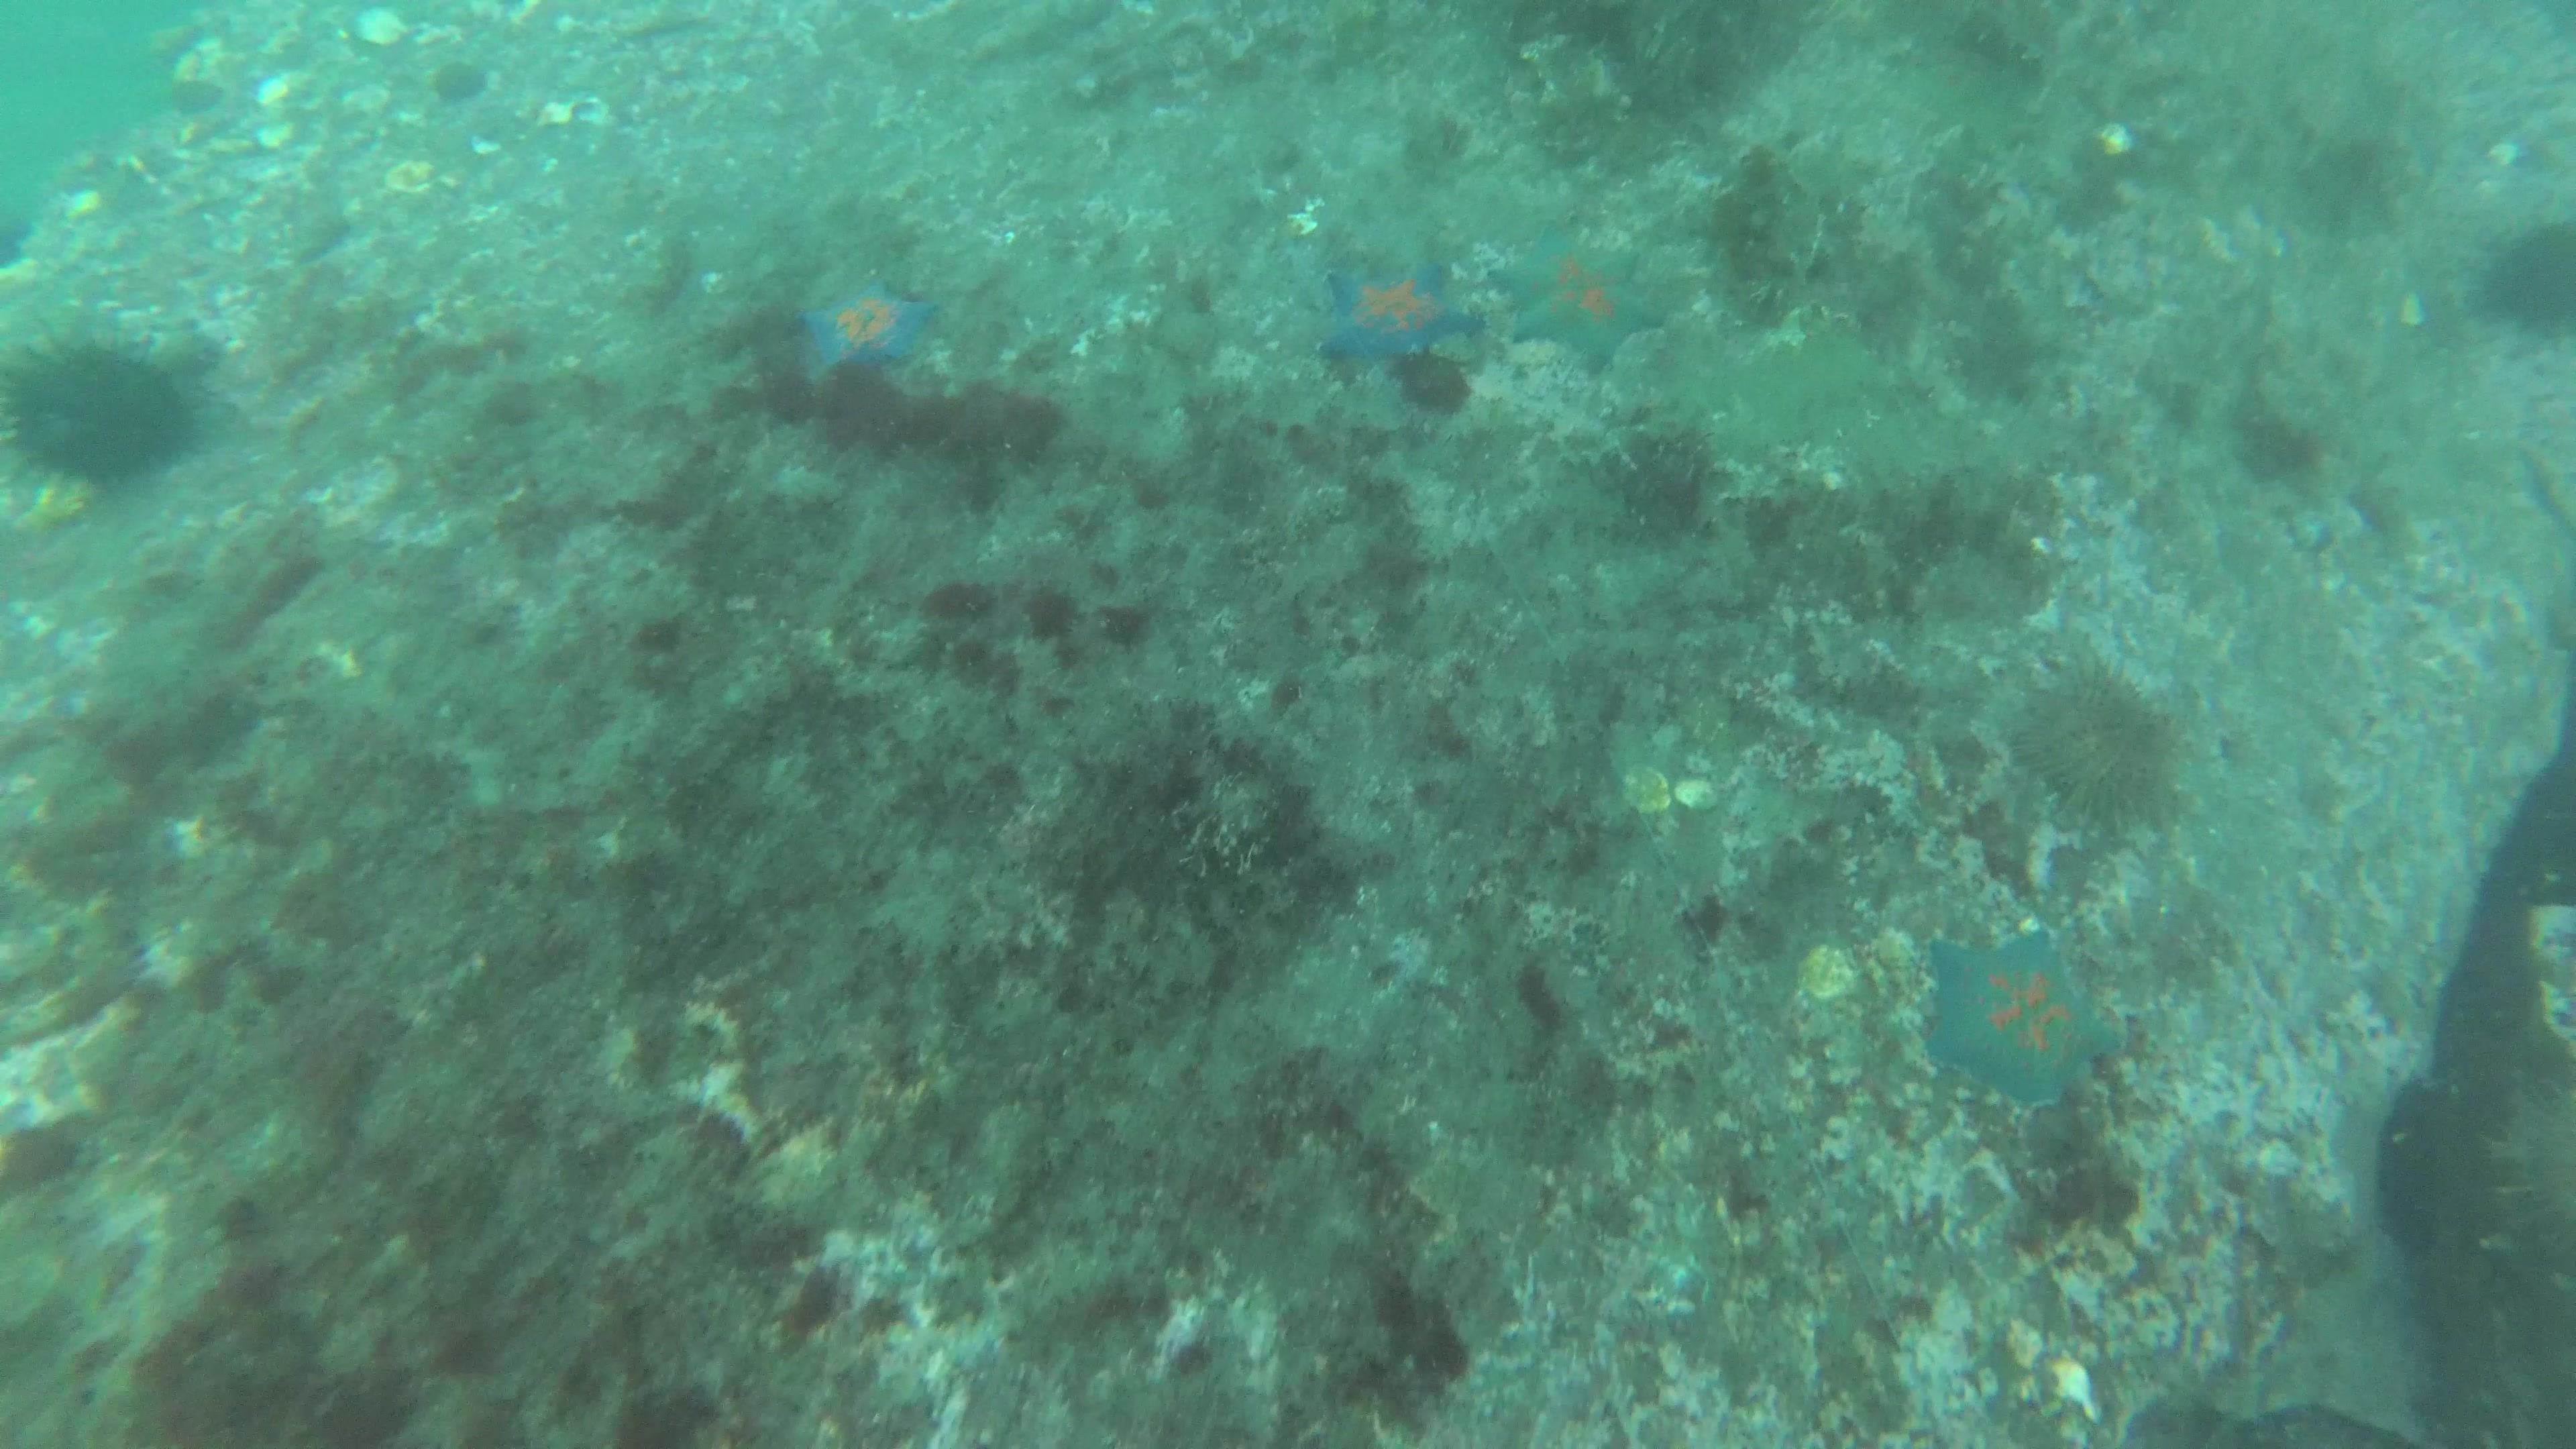echinus: (2020, 660, 2171, 846), (14, 327, 195, 479), (2473, 198, 2576, 350), (2512, 1072, 2576, 1316)
starfish: (1921, 913, 2120, 1102), (1522, 237, 1642, 366), (1345, 249, 1470, 354), (810, 287, 918, 370)
